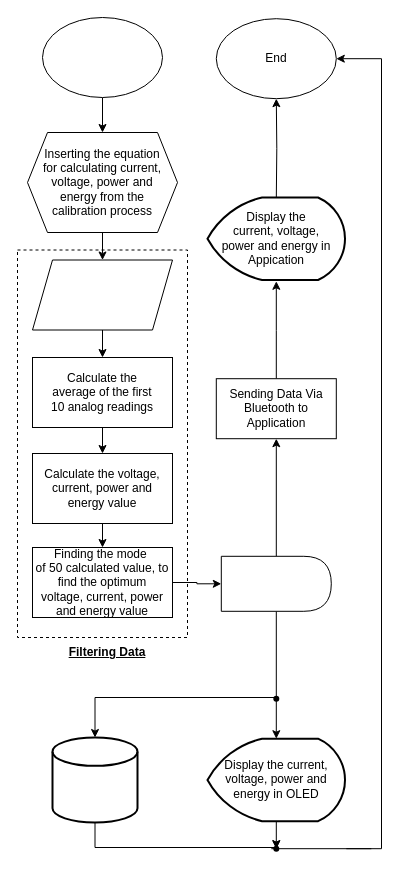
The diagram is 407 pixels wide and 887 high, and some of its shapes have lost their labels. Here are the shapes that lost their labels. From the top down, the box of each, then its label:
(42, 16, 162, 98): Start
(32, 259, 172, 330): Reading the analog data from Current Sensor and Voltage Sensor
(220, 555, 331, 611): Delay 1 Minutes
(51, 736, 138, 823): Store Data to SD Card
